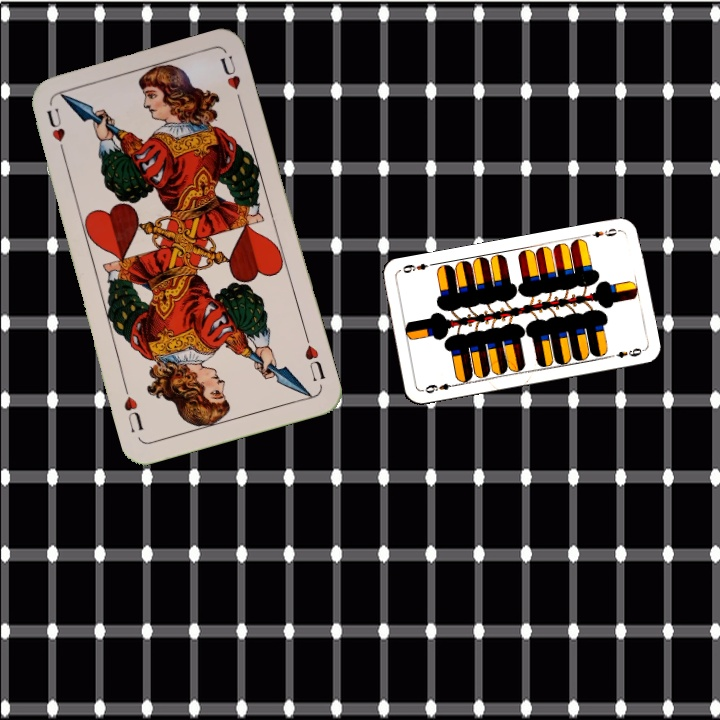E9: (419, 379, 459, 396), (582, 224, 623, 240)
HU: (300, 331, 328, 385), (42, 104, 68, 160)
